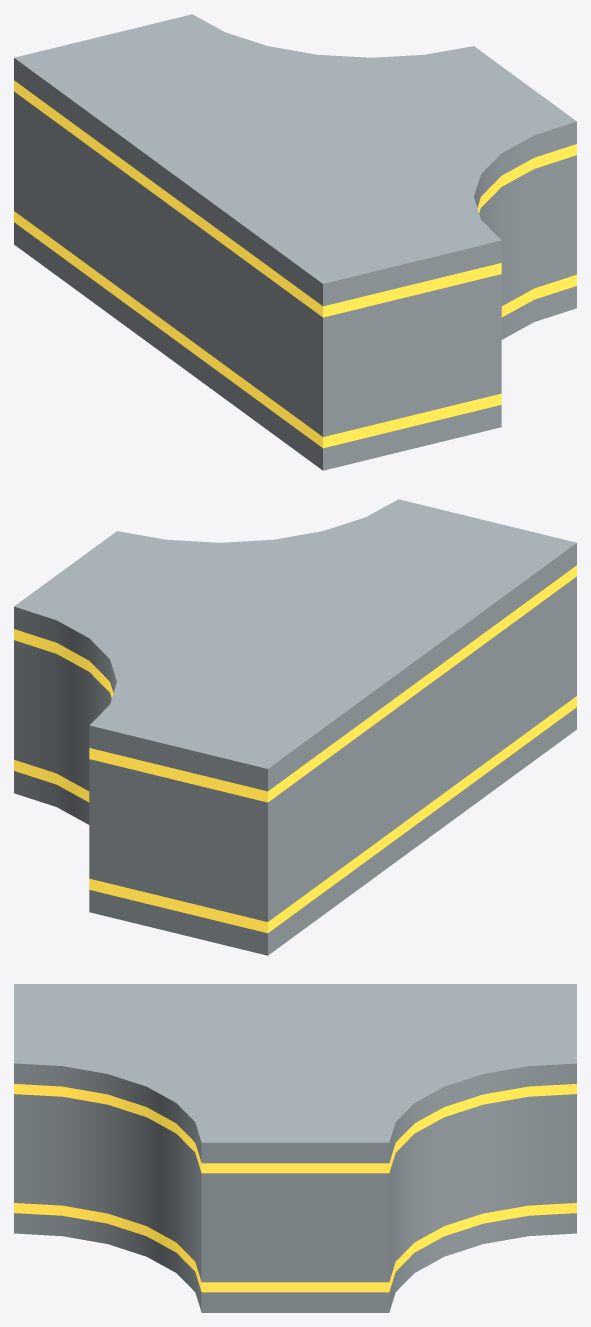
File: SM_CurvedT_v0.fbx
3 renders of one model, top to bottom at view 1: azimuth 30°, elevation 25°; view 2: azimuth 150°, elevation 25°; view 3: azimuth 270°, elevation 25°, orthographic. The views are drawn at different scales.
Parts seen in each view (by area): view 1: SM_CurvedT_v0; view 2: SM_CurvedT_v0; view 3: SM_CurvedT_v0.
Part boxes in pixels (left/top/right/bottom): SM_CurvedT_v0: left=14, top=14, right=576, bottom=470; SM_CurvedT_v0: left=14, top=499, right=576, bottom=955; SM_CurvedT_v0: left=14, top=984, right=576, bottom=1312.
Size of the model in its own units: 2 by 1 by 3.
